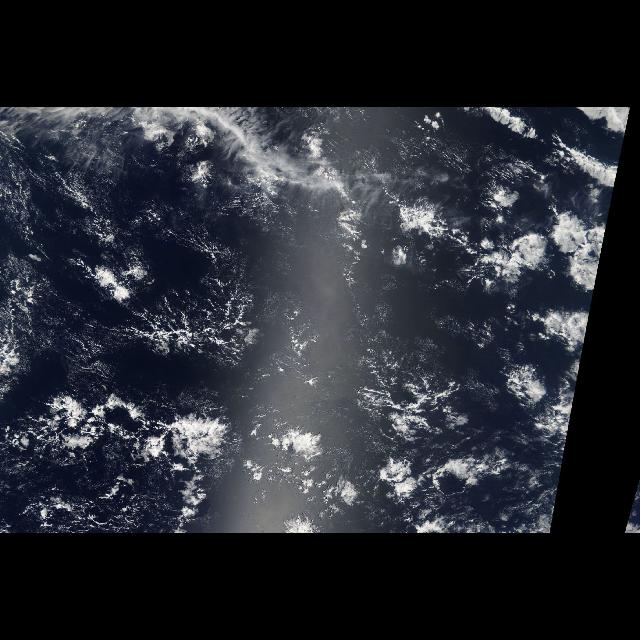Fish: (28, 388, 272, 532)
Flower: (402, 155, 622, 498)
Gravel: (4, 393, 210, 532)
